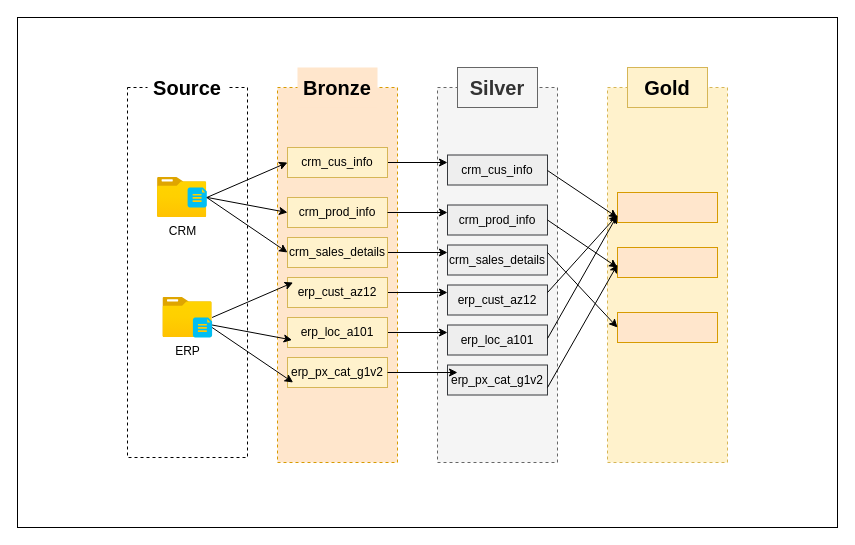
Image size: 855x545. Some labels were removed from this diagram. Here are the shapes that lost their labels. From the top down, the centre of each, then its label:
At pixel 667 207: "dim_customer".
At pixel 667 262: "dim_products".
At pixel 667 327: "fact_sales".
